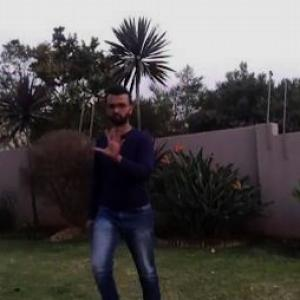follow_hand: (92, 124, 130, 165)
